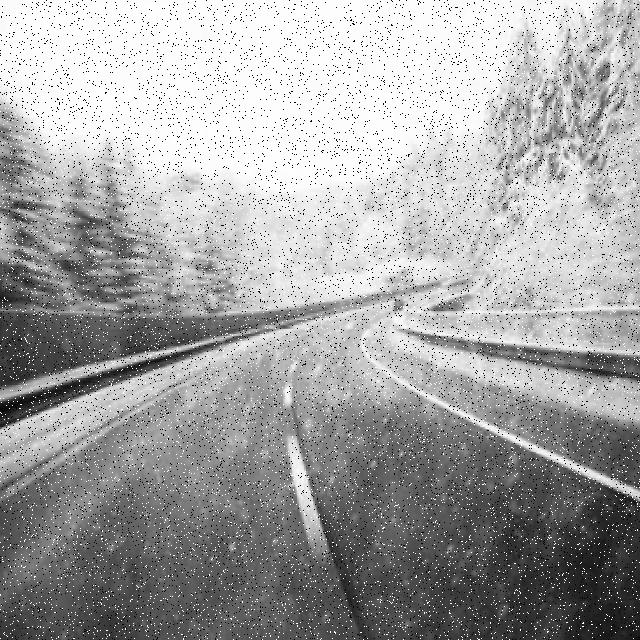ice-road: (0, 329, 640, 640), (380, 347, 640, 487)
